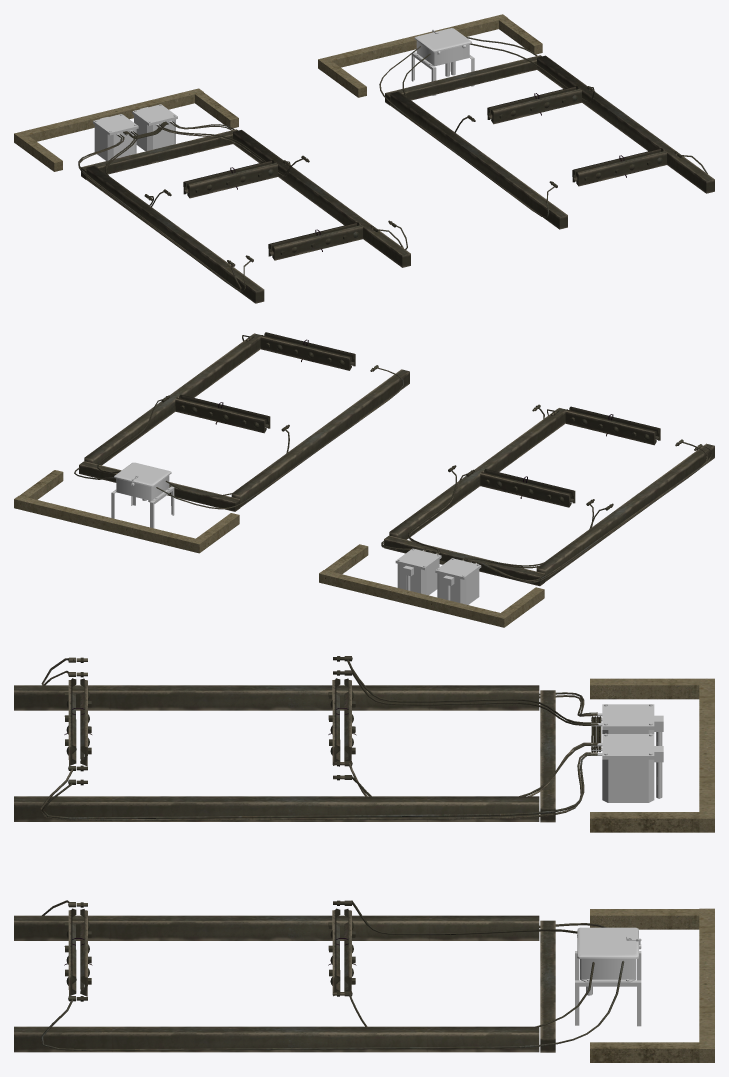
The model's file is izostik (2).fbx.
The picture shows the model from 3 angles, top to bottom: view 1: azimuth 30°, elevation 25°; view 2: azimuth 150°, elevation 25°; view 3: azimuth 270°, elevation 25°; orthographic projection. The views are drawn at different scales.
Visible parts, largest first — view 1: Cube.002, Object001.001; view 2: Cube.002, Object001.001; view 3: Cube.002, Object001.001.
Boxes of the visible parts, <box> form: Cube.002: <box>14,88,410,303</box>; Object001.001: <box>318,14,714,229</box>; Cube.002: <box>319,404,714,627</box>; Object001.001: <box>14,332,409,553</box>; Cube.002: <box>14,656,714,832</box>; Object001.001: <box>14,900,714,1062</box>.
Size of the model in its own units: 506 by 49.85 by 405.
